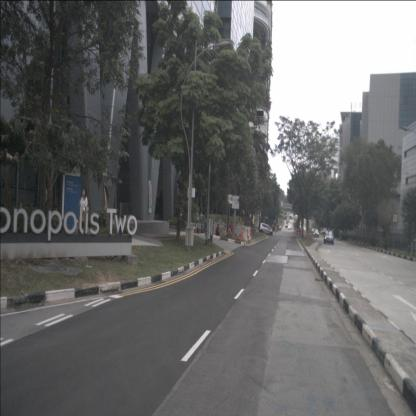human-pedestrian-adult: (78, 189, 89, 243), (43, 182, 48, 216), (216, 224, 221, 235), (340, 229, 342, 239)
movable_object-barrier: (227, 223, 243, 242), (212, 221, 229, 236), (242, 225, 251, 241), (247, 227, 253, 241), (297, 230, 302, 235)
movable_object-trafficcone: (198, 223, 202, 234), (194, 223, 198, 233), (202, 224, 206, 233), (191, 223, 194, 234), (193, 222, 195, 233)
vehicle-car: (258, 223, 273, 236), (324, 230, 334, 245), (313, 229, 319, 237)
